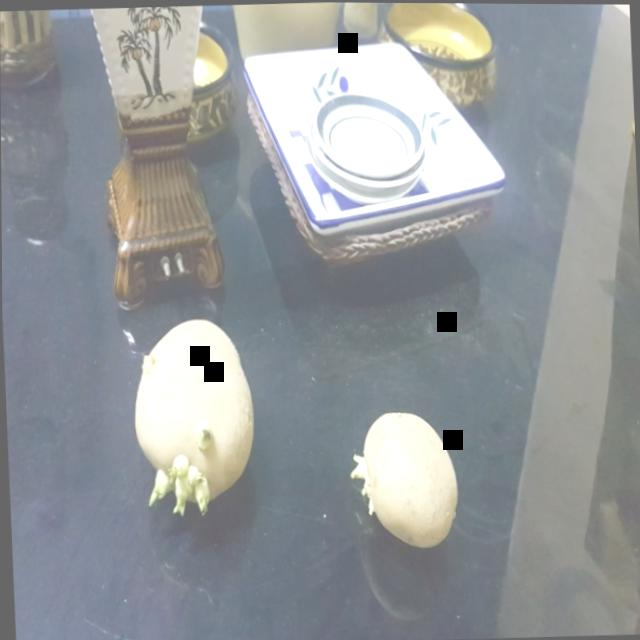potato: (118, 305, 261, 527), (333, 395, 469, 555)
